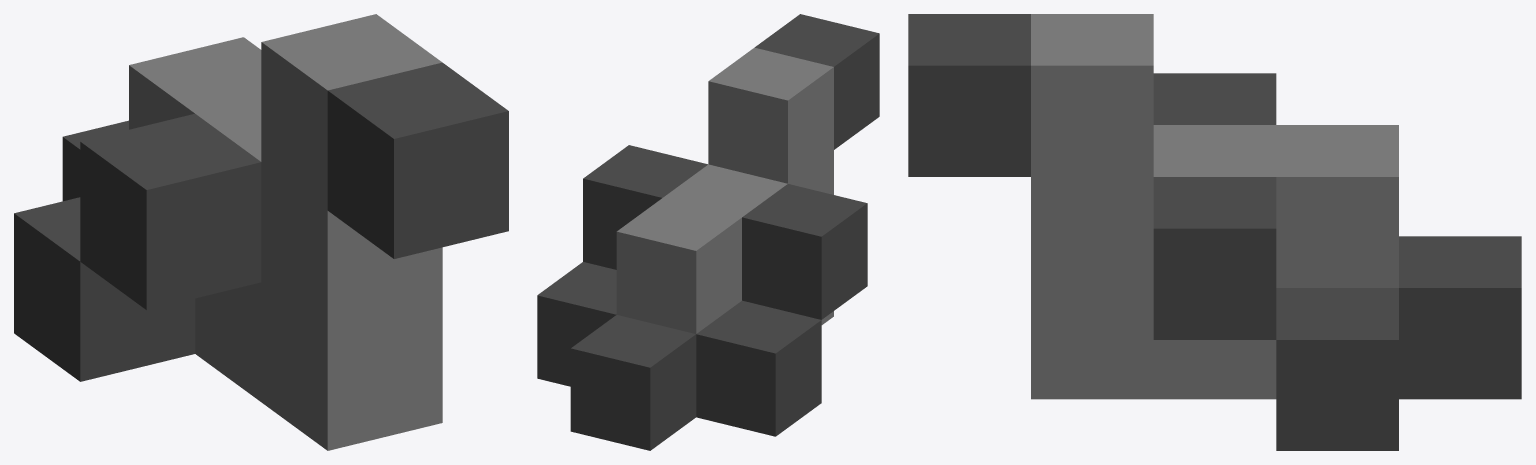
File: Animal_Bird_Pigeon.glb
3 views of the same model, side by side, from view 1: azimuth 30°, elevation 25°; view 2: azimuth 150°, elevation 25°; view 3: azimuth 270°, elevation 25° (orthographic). The views are drawn at different scales.
Parts seen in each view (by area): view 1: Animal_Bird_Pigeon; view 2: Animal_Bird_Pigeon; view 3: Animal_Bird_Pigeon.
Boxes of the visible parts, bbox=[...] form: Animal_Bird_Pigeon: bbox=[14, 14, 508, 450]; Animal_Bird_Pigeon: bbox=[537, 14, 879, 450]; Animal_Bird_Pigeon: bbox=[908, 14, 1521, 450].
Bounding box in the file's own units: 0.3 × 0.3 × 0.5.
1 material, 1 textured.
